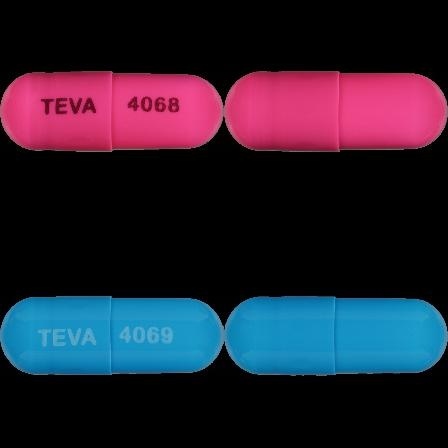0093-4068: (0, 0, 224, 224)
